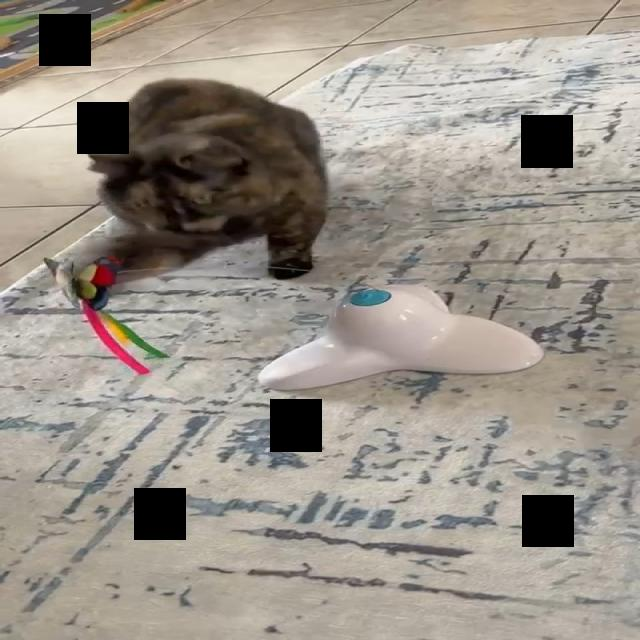authorized: (84, 76, 329, 281)
